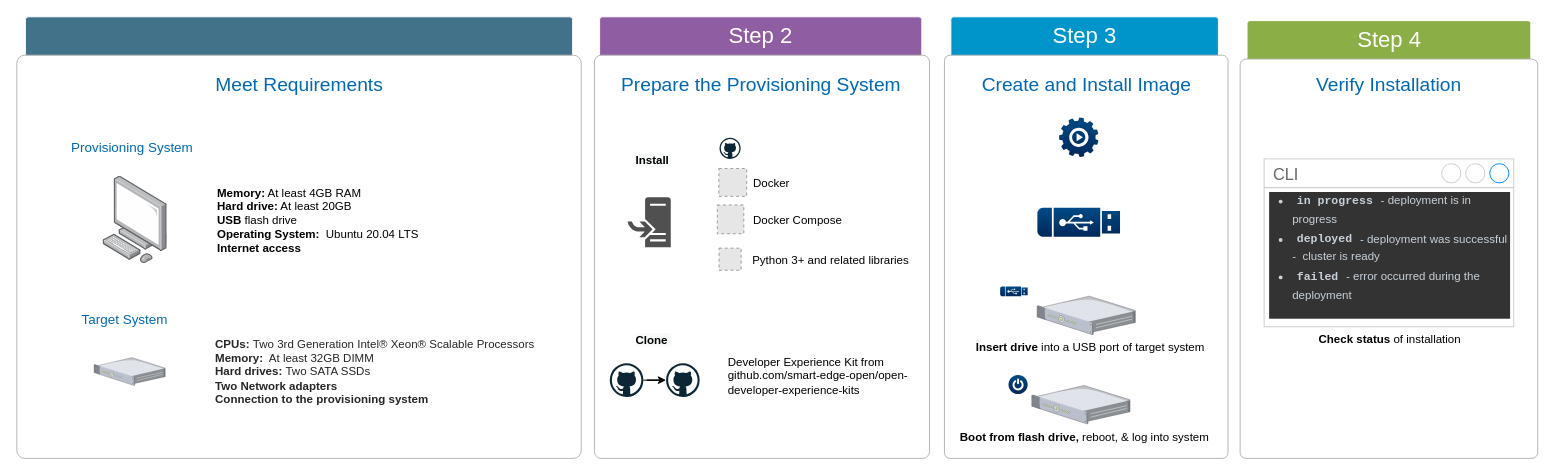
This 1555x475 diagram has some shape labels left out. Grey dashed boxes stand in for pictures. The centre of each missing label's shape, as x and y in pixels:
Flash installation image: the point at 1078,221
Git: the point at 730,148
Run ESP script to create installation image: the point at 1078,136
Step 1: the point at 298,45
